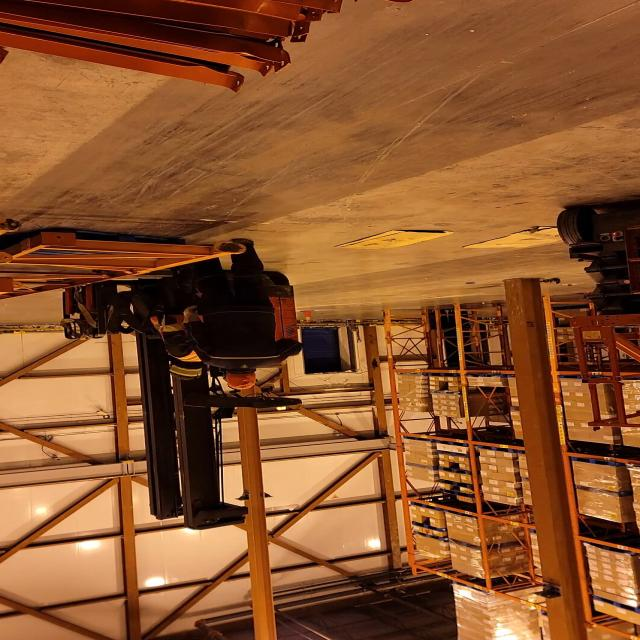forklift: (55, 266, 306, 521)
human: (196, 238, 305, 390), (148, 270, 219, 378)
objectofinterest: (0, 230, 255, 300), (461, 225, 605, 251), (334, 227, 456, 252)
